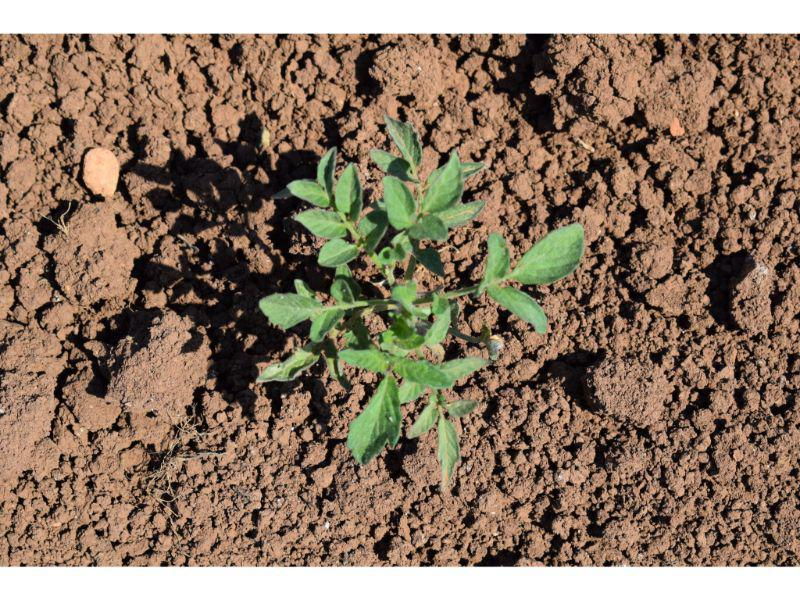tomato: (258, 114, 584, 479)
